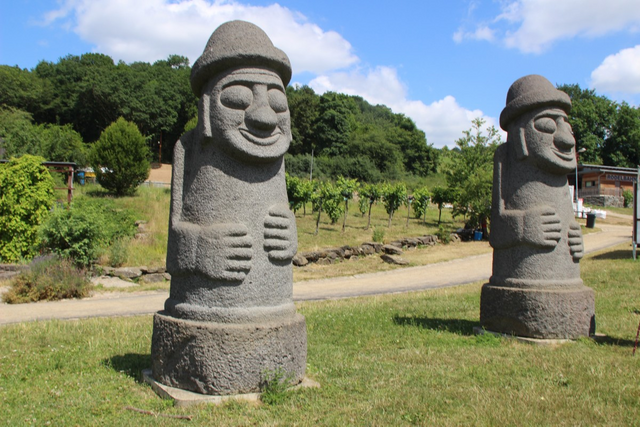Stone Statue: (125, 12, 318, 406), (472, 57, 605, 361)
